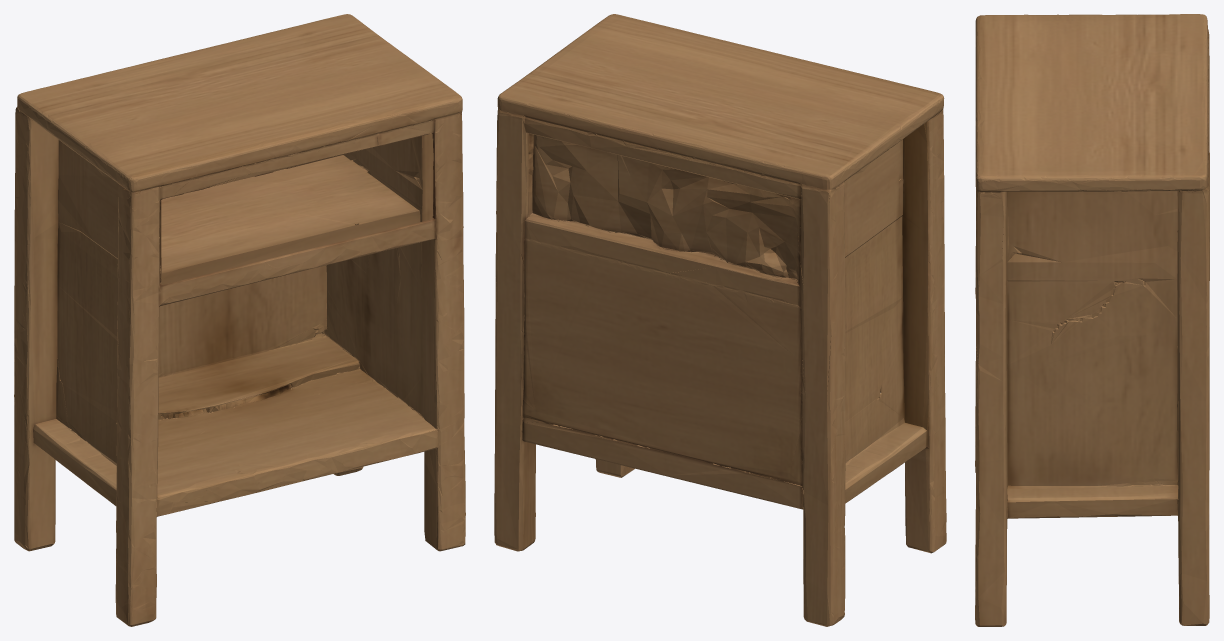
File: nightstand-body.glb
The picture shows the model from 3 angles, left to right: view 1: azimuth 30°, elevation 25°; view 2: azimuth 150°, elevation 25°; view 3: azimuth 270°, elevation 25°; orthographic projection.
Parts seen in each view (by area): view 1: source_surface_0, source_surface_2, source_surface_6, source_surface_4, source_surface_3; view 2: source_surface_0, source_surface_3, source_surface_2, source_surface_1, source_surface_6; view 3: source_surface_0, source_surface_2.
Boxes of the visible parts, x1=… form: source_surface_0: x1=14, y1=107, x2=465, y2=626; source_surface_2: x1=17, y1=14, x2=462, y2=194; source_surface_6: x1=55, y1=343, x2=438, y2=516; source_surface_4: x1=158, y1=265, x2=329, y2=376; source_surface_3: x1=66, y1=329, x2=360, y2=422; source_surface_0: x1=494, y1=95, x2=946, y2=626; source_surface_3: x1=521, y1=238, x2=803, y2=486; source_surface_2: x1=497, y1=14, x2=944, y2=191; source_surface_1: x1=528, y1=133, x2=800, y2=284; source_surface_6: x1=520, y1=418, x2=852, y2=509; source_surface_0: x1=975, y1=30, x2=1209, y2=626; source_surface_2: x1=975, y1=14, x2=1208, y2=194.
Bounding box in the file's own units: 0.4722 × 0.5997 × 0.2829.
1 material, 1 textured.
